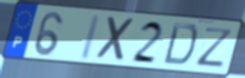2: (129, 20, 166, 65)
6: (31, 10, 65, 58)
D: (161, 21, 199, 68)
I: (78, 13, 104, 62)
X: (95, 14, 138, 63)
Z: (195, 26, 236, 69)
